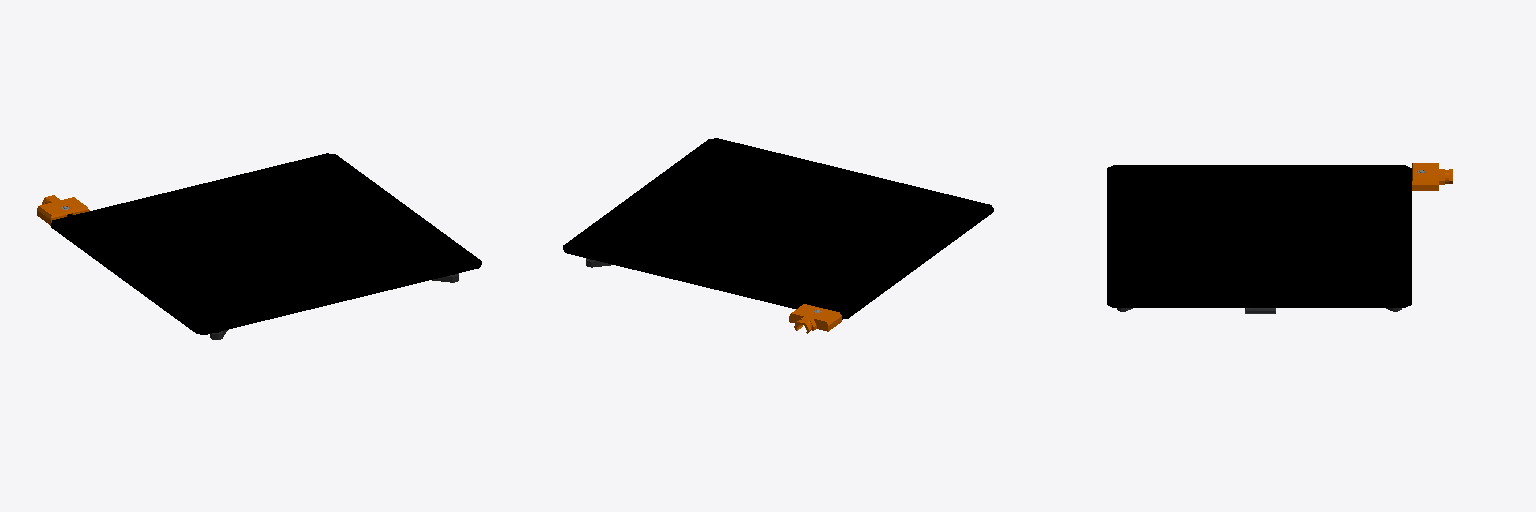
3 views of the same model, side by side, from view 1: azimuth 30°, elevation 25°; view 2: azimuth 150°, elevation 25°; view 3: azimuth 270°, elevation 25° (orthographic).
Parts seen in each view (by area): view 1: i3_mk2; view 2: i3_mk2; view 3: i3_mk2.
Boxes of the visible parts, box(x1,y1,x2,y2) form: i3_mk2: box(37, 153, 481, 339); i3_mk2: box(563, 138, 993, 333); i3_mk2: box(1107, 163, 1452, 313).
Size of the model in its own units: 0.254 by 0.046 by 0.267.